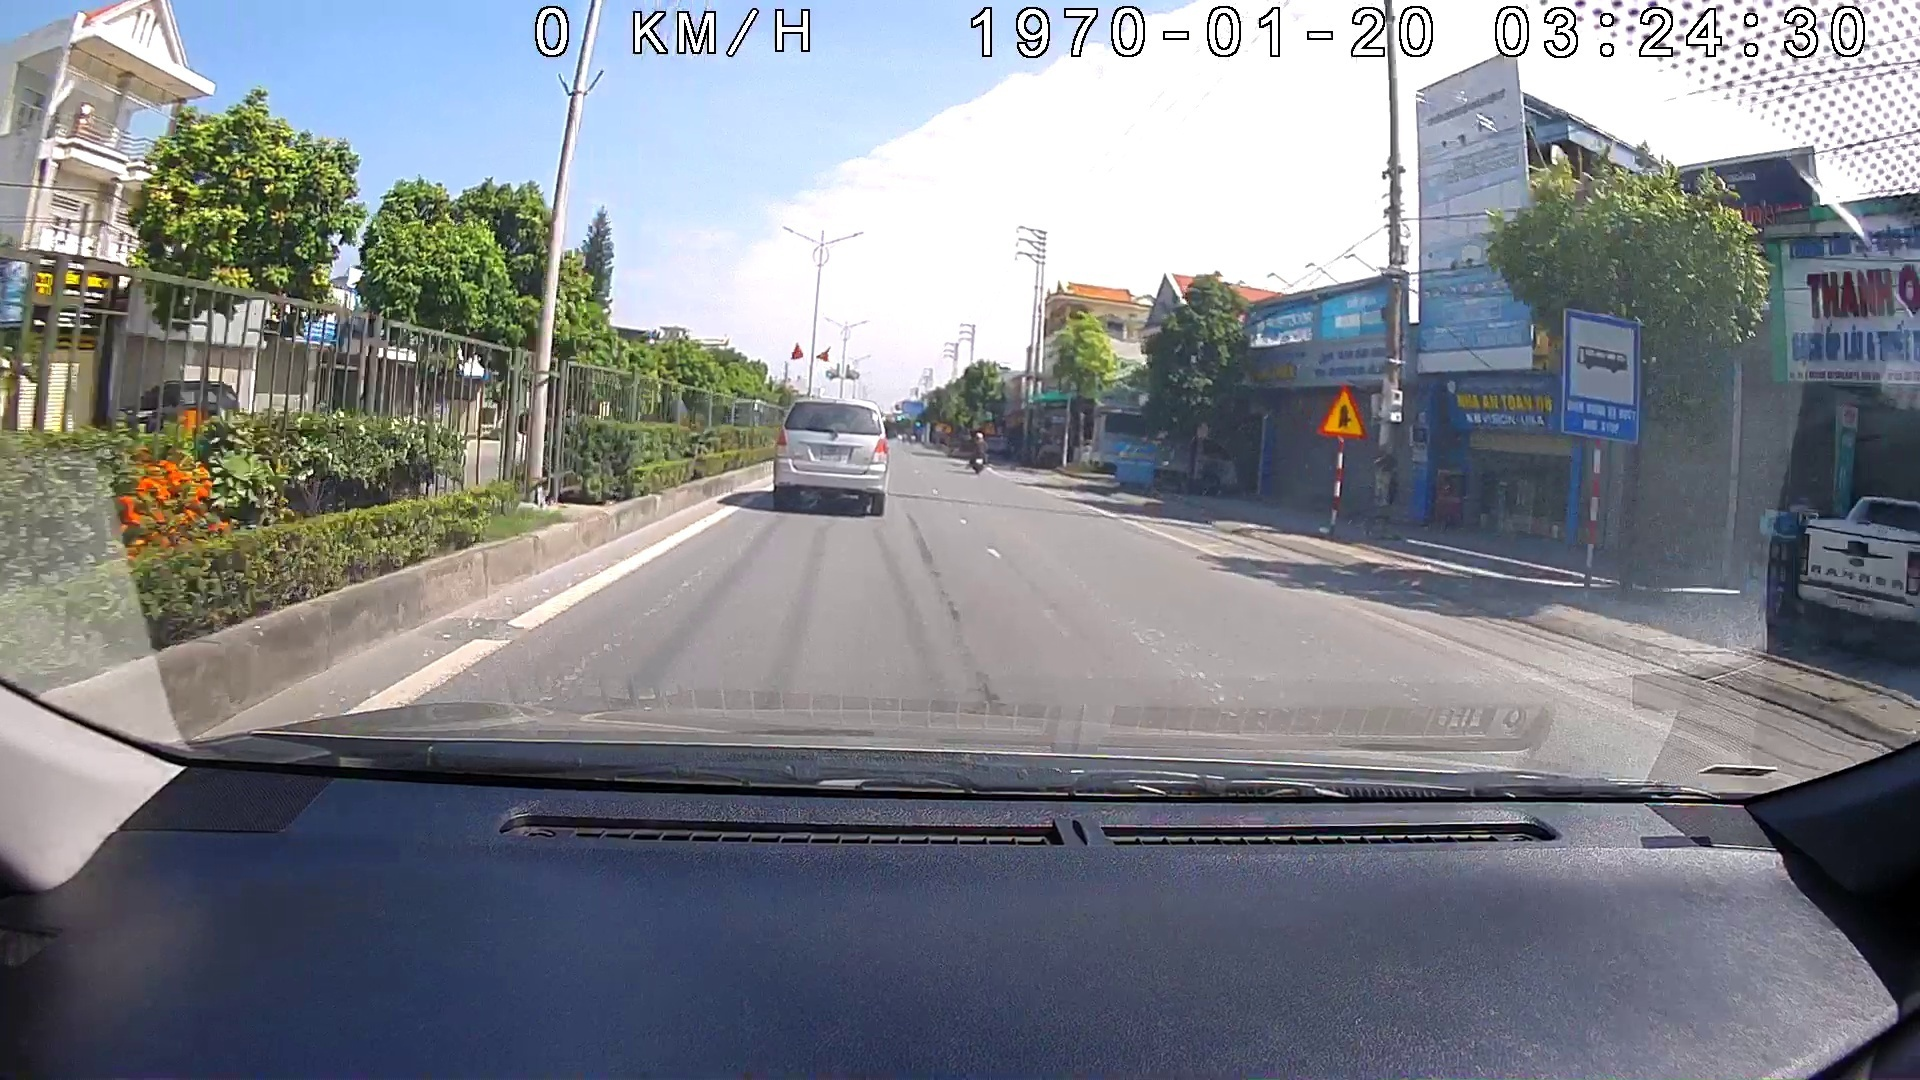Bien khac: (1561, 305, 1642, 447)
Giao nhau voi duong khong uu tien: (1319, 384, 1367, 444)
